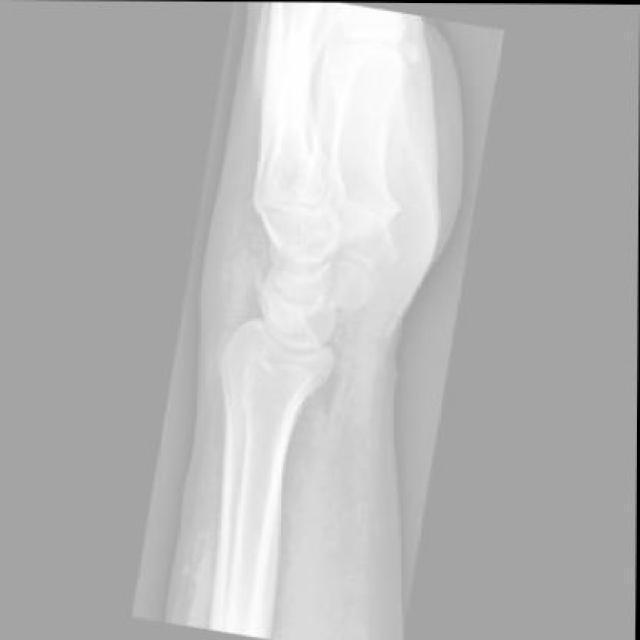Fracture: (252, 265, 274, 292)
